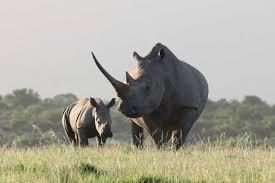Rhinoceroses: (91, 43, 208, 148), (63, 97, 115, 146)
